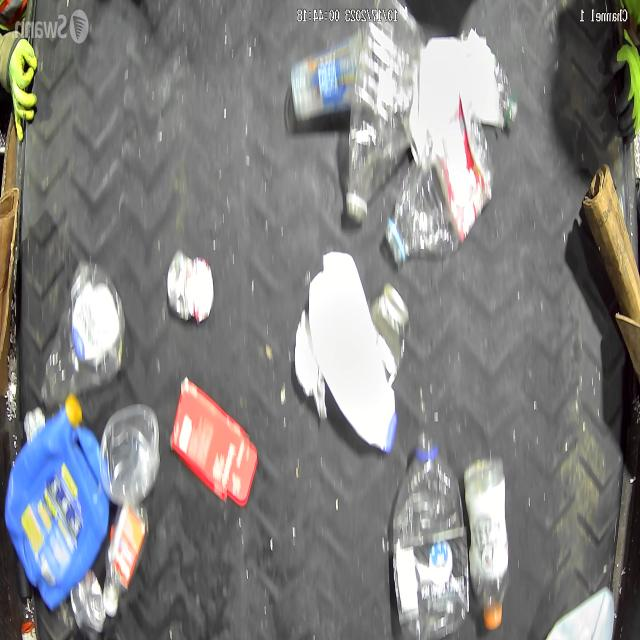can: (166, 248, 214, 322)
milk_jug: (309, 252, 397, 453), (547, 590, 614, 640)
non_white_jug: (3, 402, 107, 614)
plastic_bottle: (384, 96, 496, 261), (392, 427, 462, 636), (344, 20, 410, 222), (37, 258, 126, 406), (465, 457, 510, 629), (100, 497, 150, 617)
